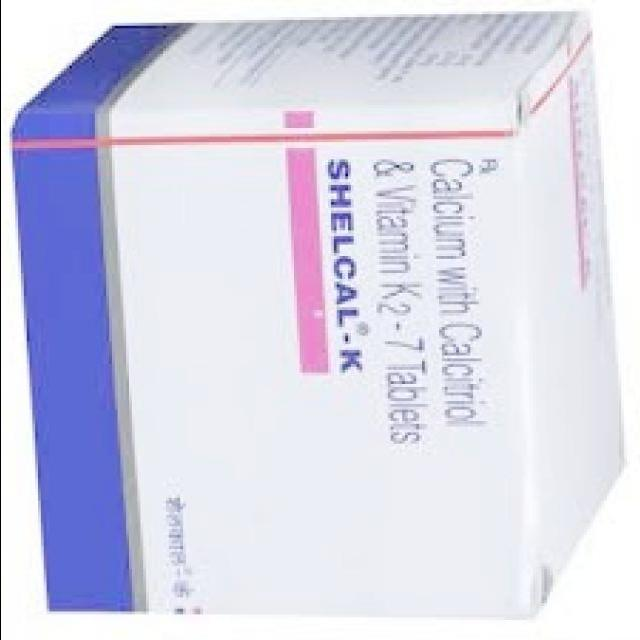authentic: (0, 6, 618, 640)
